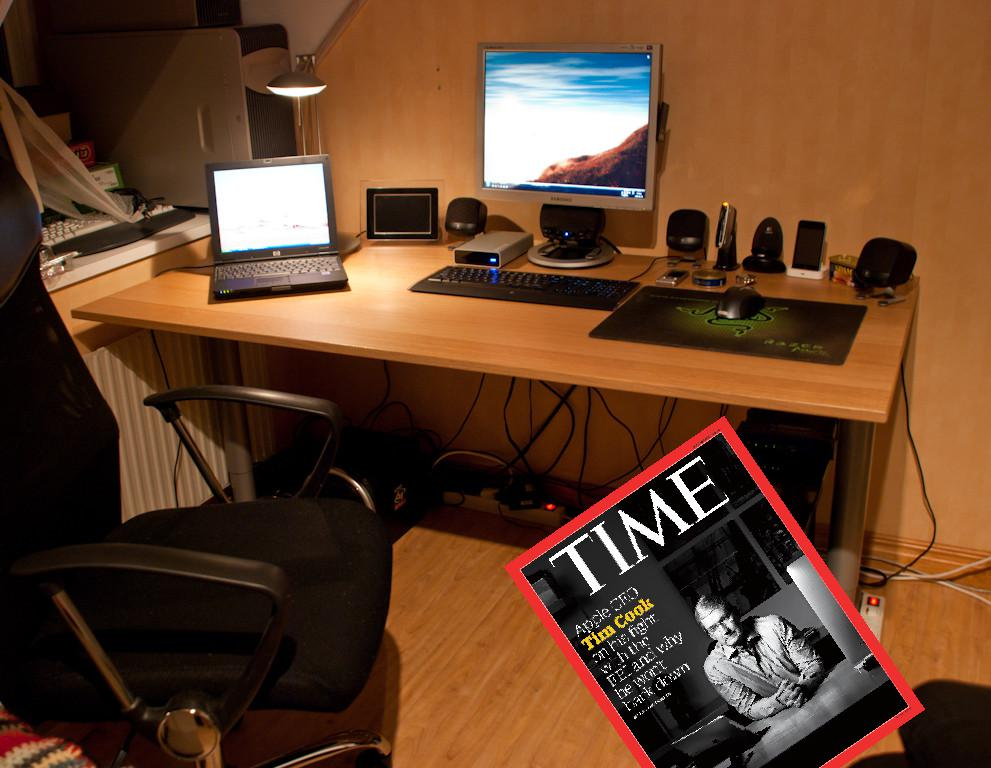times: (499, 412, 923, 768)
